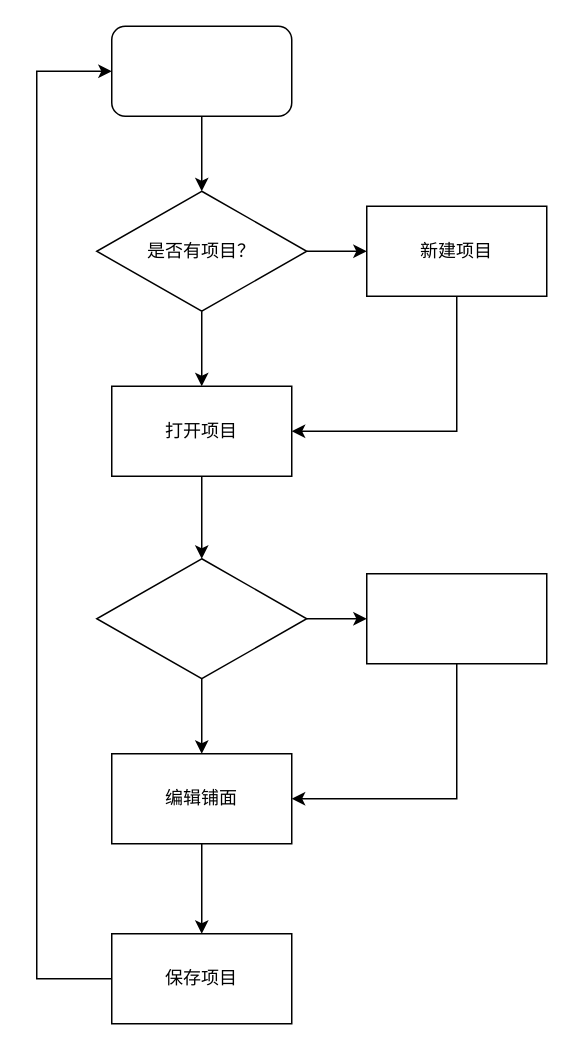
This 573x1050 diagram has some shape labels left out. The box of each missing label's shape, as (x1, y1, x2, y2) in pixels:
开始: (110, 25, 292, 116)
新建铺面: (365, 572, 547, 664)
是否有铺面？: (95, 557, 307, 679)
